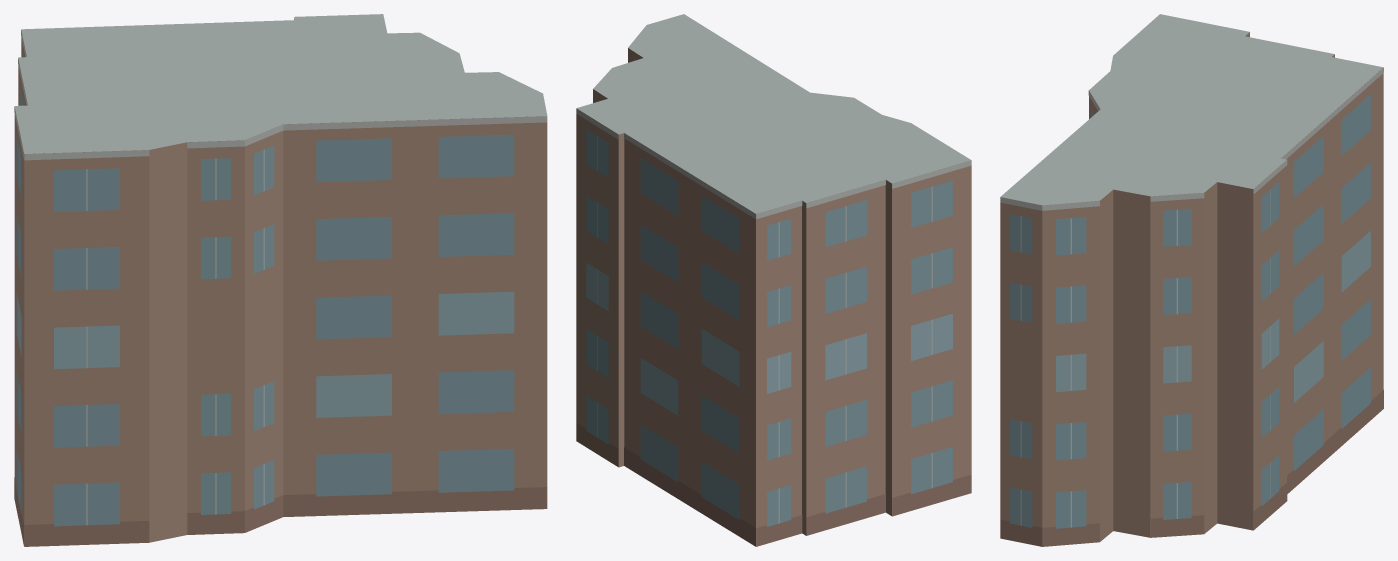
The model's file is survey-upis-32535325.glb.
The picture shows the model from 3 angles, left to right: view 1: azimuth 30°, elevation 25°; view 2: azimuth 150°, elevation 25°; view 3: azimuth 270°, elevation 25°; orthographic projection. The views are drawn at different scales.
Visible parts, largest first — view 1: survey-upis-32535325.tmp; view 2: survey-upis-32535325.tmp; view 3: survey-upis-32535325.tmp.
Part boxes in pixels (<box>): survey-upis-32535325.tmp: <box>14,14,547,546</box>; survey-upis-32535325.tmp: <box>576,14,971,546</box>; survey-upis-32535325.tmp: <box>1000,14,1383,546</box>.
Bounding box in the file's own units: 18.28 × 15.2 × 15.48.
